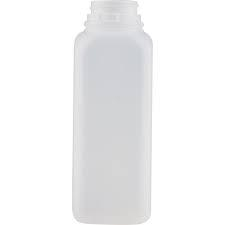Container for household chemicals: (58, 0, 163, 225)
